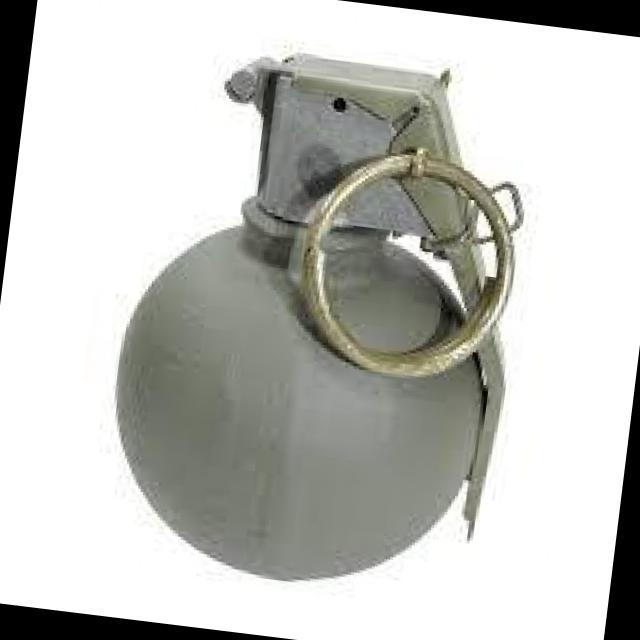grenade: (106, 35, 542, 589)
